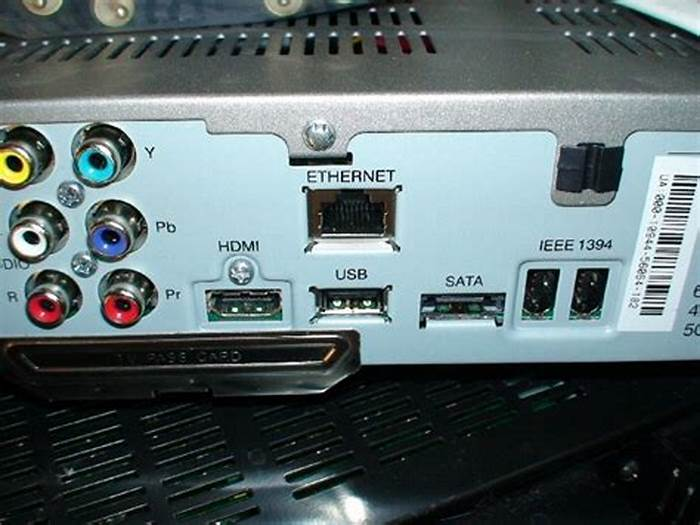Audio: (66, 134, 129, 185), (86, 219, 143, 262), (100, 281, 143, 327)
Ethernet: (306, 189, 395, 247)
HDMI: (199, 286, 289, 326)
USB: (312, 288, 391, 318)
